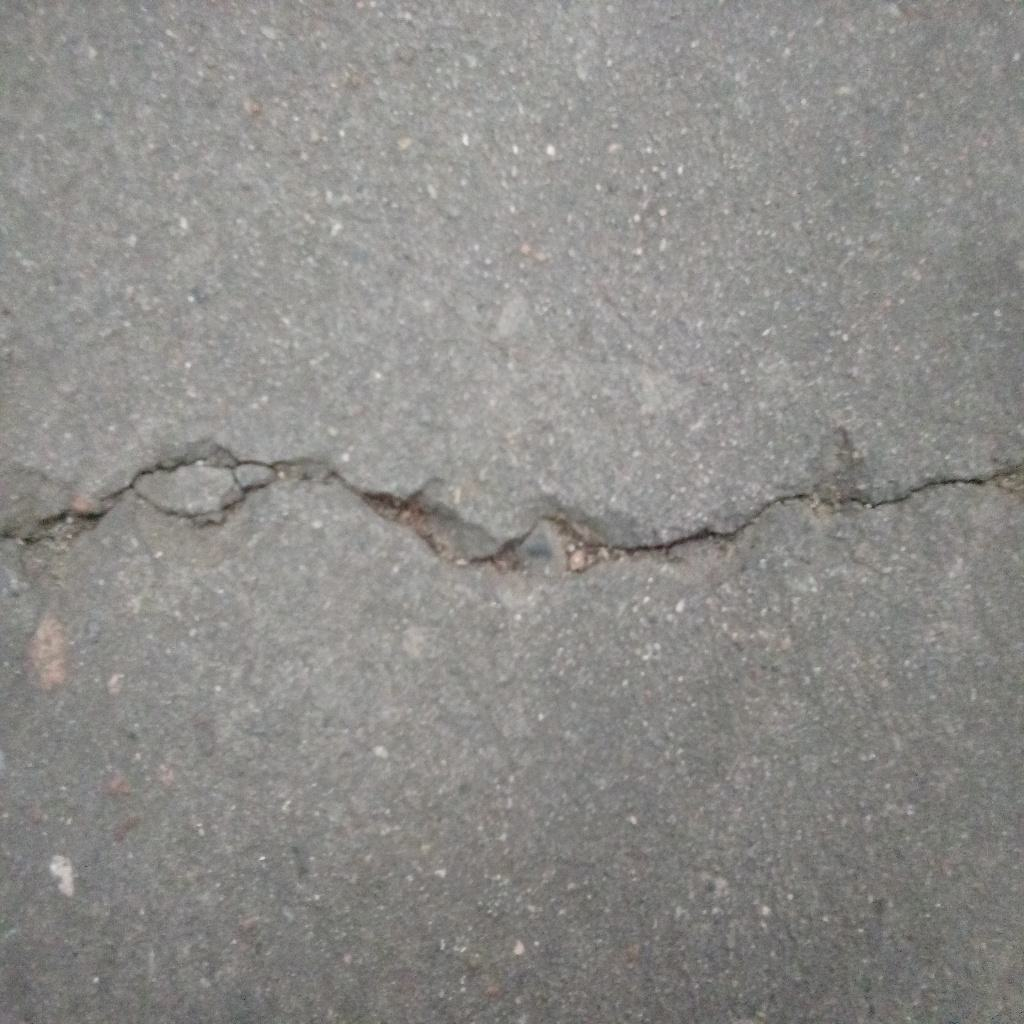Crack: (1, 436, 1024, 581)
